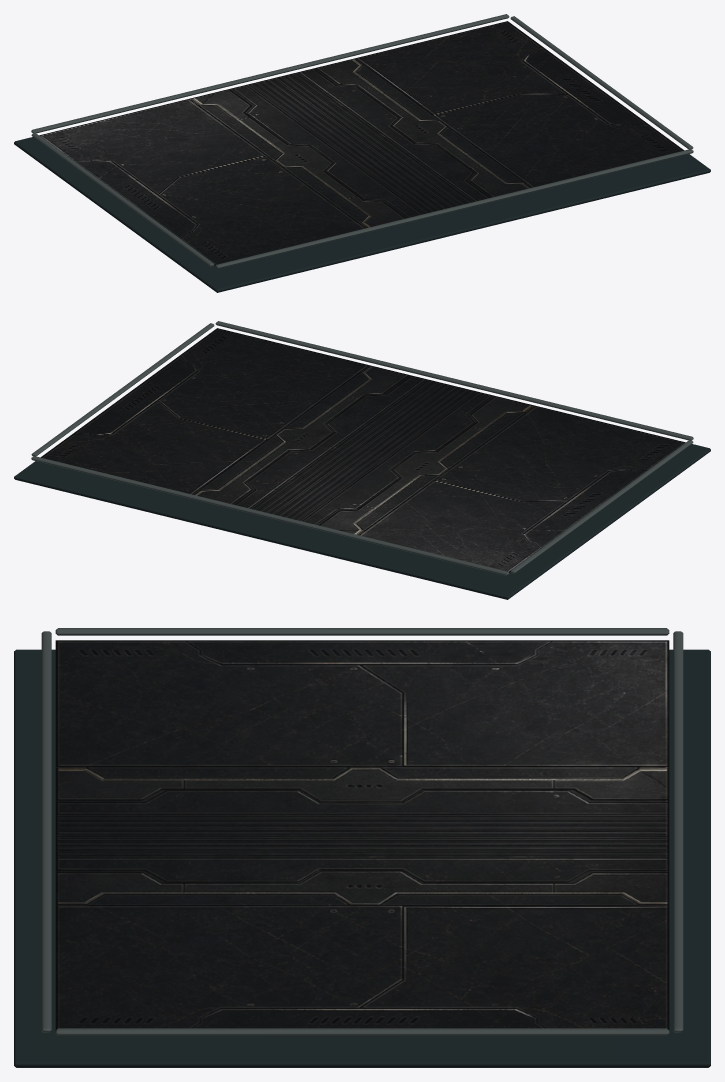
Rendered from hp_room_floor_tile_museum.glb.
The picture shows the model from 3 angles, top to bottom: view 1: azimuth 30°, elevation 25°; view 2: azimuth 150°, elevation 25°; view 3: azimuth 270°, elevation 25°; orthographic projection. The views are drawn at different scales.
Visible parts, largest first — view 1: museum_floor_image2_full_gallery_composition_visible_face, museum_floor_black_underplate_for_single_image2, museum_floor_low_smoked_back_lip; view 2: museum_floor_image2_full_gallery_composition_visible_face, museum_floor_black_underplate_for_single_image2, museum_floor_low_smoked_back_lip; view 3: museum_floor_image2_full_gallery_composition_visible_face, museum_floor_black_underplate_for_single_image2, museum_floor_low_smoked_back_lip.
Part boxes in pixels (box(x1,y1,x2,y2)): museum_floor_image2_full_gallery_composition_visible_face: box(39, 21, 683, 265); museum_floor_black_underplate_for_single_image2: box(14, 21, 710, 292); museum_floor_low_smoked_back_lip: box(31, 14, 693, 268); museum_floor_image2_full_gallery_composition_visible_face: box(41, 328, 685, 572); museum_floor_black_underplate_for_single_image2: box(14, 328, 710, 599); museum_floor_low_smoked_back_lip: box(31, 321, 693, 575); museum_floor_image2_full_gallery_composition_visible_face: box(55, 640, 669, 1029); museum_floor_black_underplate_for_single_image2: box(14, 649, 710, 1067); museum_floor_low_smoked_back_lip: box(41, 628, 683, 1035).
Size of the model in its own units: 4.34 by 0.1588 by 3.09.
3 materials, 1 textured.
